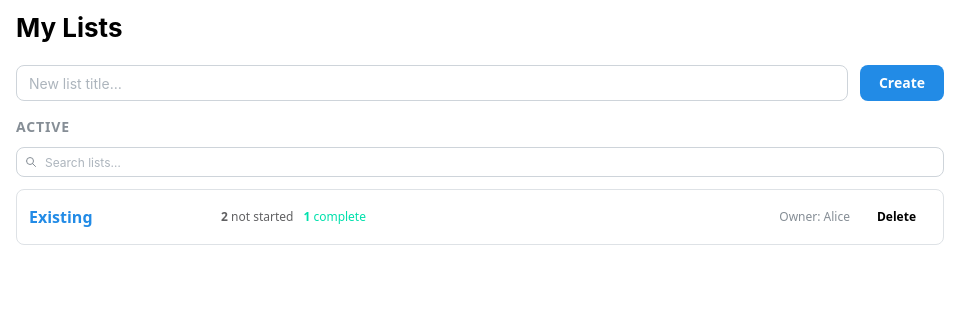
ListsPage › adds a newly created list to the top of the active list
Type "New List" into the field with placeholder "New list title…". click: (432, 83)
box: [16,65,848,101]
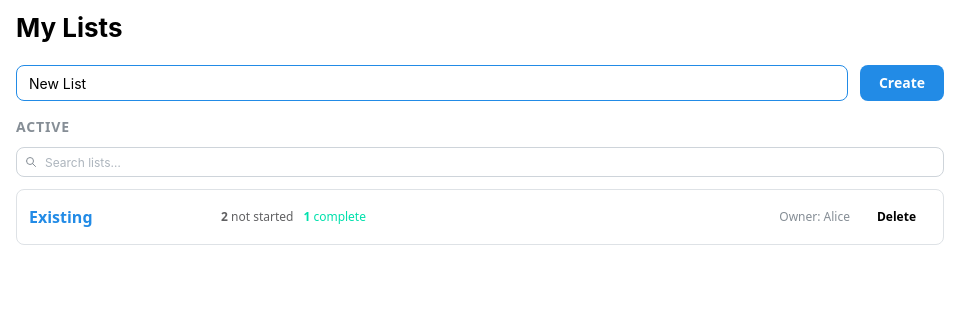
Click the button "Create". click: click(902, 83)
box: [860,65,944,101]
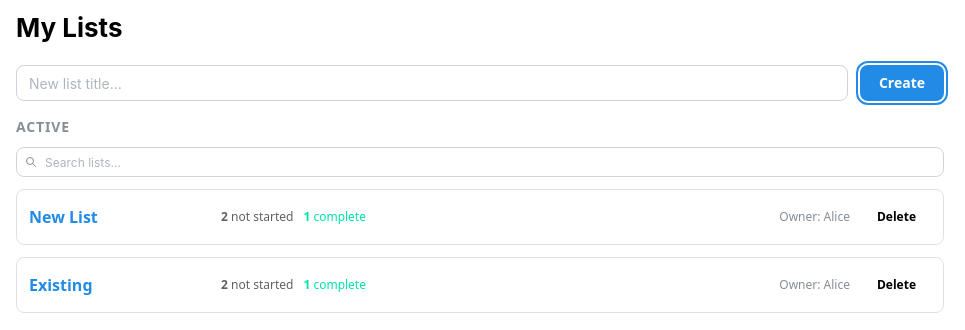
Check: the link "New List" is shown, box [29,206,98,228]
